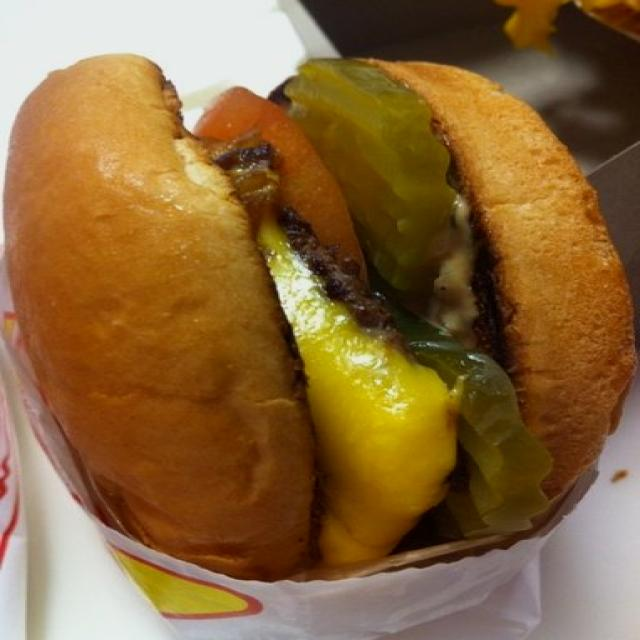burger: (0, 24, 630, 558)
